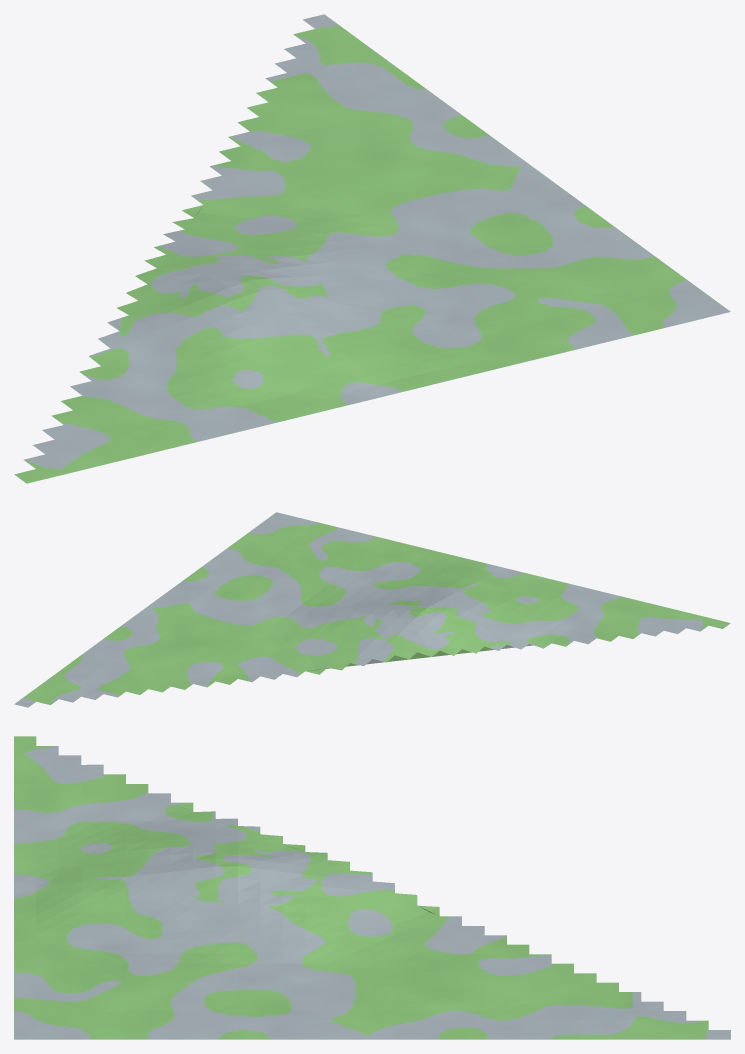
Rendered from Grass_RockyGround_04_NE.obj.
3 renders of one model, top to bottom at view 1: azimuth 30°, elevation 25°; view 2: azimuth 150°, elevation 25°; view 3: azimuth 270°, elevation 25°, orthographic. The views are drawn at different scales.
Size of the model in its own units: 10 by 0.3353 by 10.
Materials: 1 (1 with a texture image).
